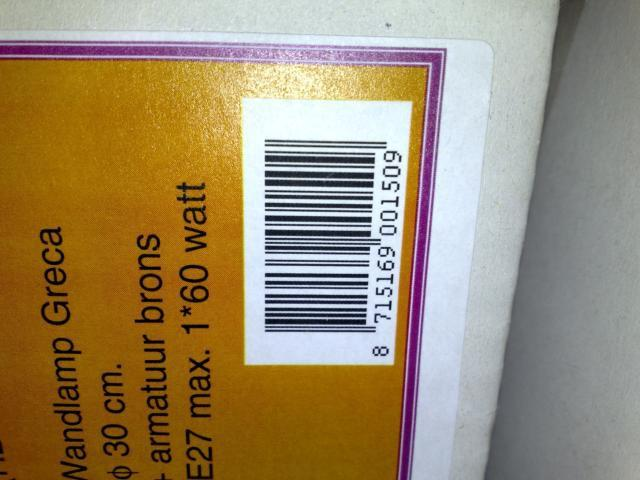Barcode: (242, 131, 412, 367)
